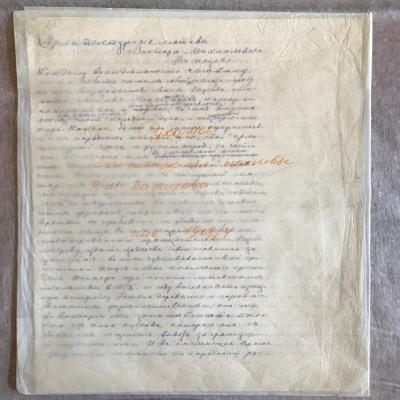document: (27, 16, 360, 393)
